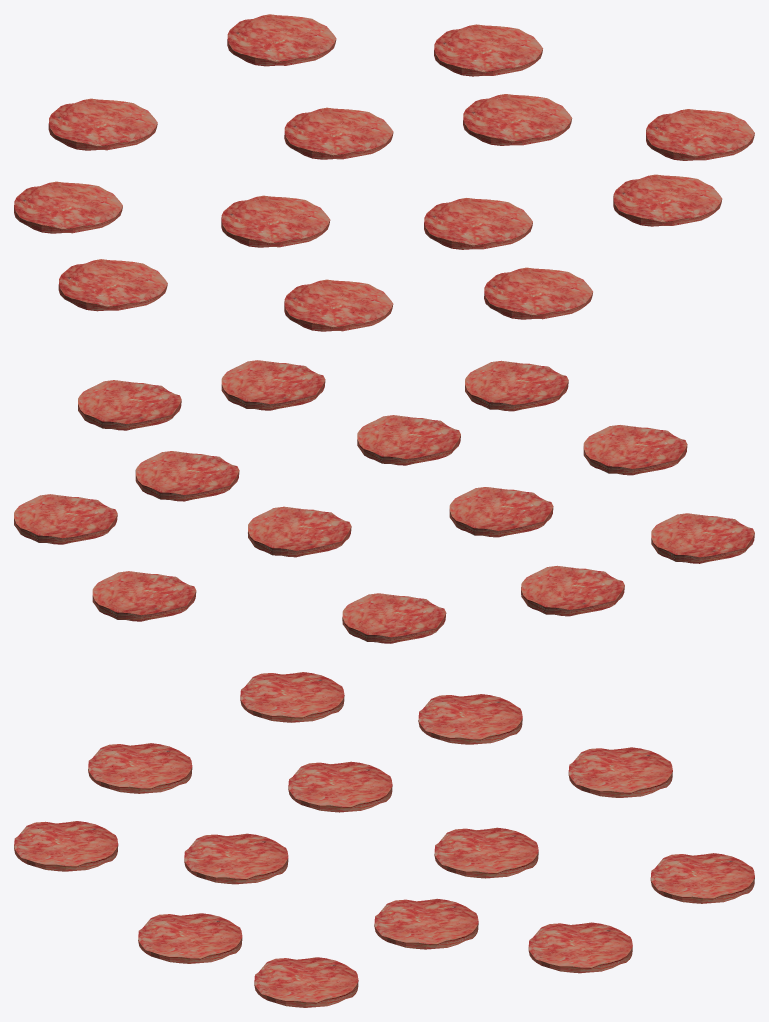
File: salami_op_pizza.glb
3 views of the same model, one above another, from view 1: azimuth 30°, elevation 25°; view 2: azimuth 150°, elevation 25°; view 3: azimuth 270°, elevation 25° (orthographic). The views are drawn at different scales.
Visible parts, largest first — view 1: Cylinder, Cylinder.006, Cylinder.005, Cylinder.009, Cylinder.012, Cylinder.013, Cylinder.003, Cylinder.010, Cylinder.001, Cylinder.004, Cylinder.008, Cylinder.011 (+1 smaller); view 2: Cylinder, Cylinder.005, Cylinder.003, Cylinder.009, Cylinder.008, Cylinder.004, Cylinder.001, Cylinder.011, Cylinder.007, Cylinder.010, Cylinder.013, Cylinder.006 (+1 smaller); view 3: Cylinder.001, Cylinder.007, Cylinder.011, Cylinder.010, Cylinder.009, Cylinder.005, Cylinder.012, Cylinder.003, Cylinder.006, Cylinder.008, Cylinder, Cylinder.013 (+1 smaller).
Part boxes in pixels (x1,y1,x2,y2): Cylinder: (284,279,393,331); Cylinder.006: (284,107,393,159); Cylinder.005: (221,195,330,247); Cylinder.009: (227,14,336,66); Cylinder.012: (484,267,592,319); Cylinder.013: (58,259,167,311); Cylinder.003: (613,174,722,226); Cylinder.010: (434,24,542,76); Cylinder.001: (424,198,532,249); Cylinder.004: (463,94,572,145); Cylinder.008: (48,98,157,150); Cylinder.011: (646,109,754,160); Cylinder: (583,425,687,475); Cylinder.005: (449,487,553,537); Cylinder.003: (221,360,325,410); Cylinder.009: (92,571,196,621); Cylinder.008: (342,593,446,643); Cylinder.004: (135,451,239,501); Cylinder.001: (357,415,460,465); Cylinder.011: (78,380,181,430); Cylinder.007: (521,565,624,616); Cylinder.010: (14,494,117,544); Cylinder.013: (651,513,754,563); Cylinder.006: (248,506,351,557); Cylinder.001: (184,833,288,884); Cylinder.007: (418,694,522,744); Cylinder.011: (254,957,358,1007); Cylinder.010: (528,922,632,973); Cylinder.009: (650,853,754,903); Cylinder.005: (288,761,392,812); Cylinder.012: (14,821,118,871); Cylinder.003: (138,913,242,963); Cylinder.006: (434,827,538,878); Cylinder.008: (568,747,672,797); Cylinder: (88,743,192,793); Cylinder.013: (240,672,344,722).
Bounding box in the file's own units: 2.37 × 0.0323 × 2.25.
13 materials, 13 textured.
